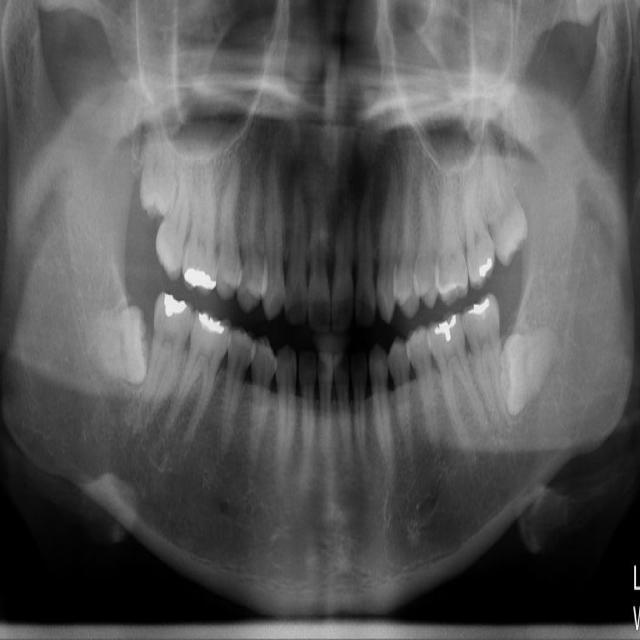3M ESPE Implant: (137, 93, 184, 223)
52: (166, 246, 225, 301), (145, 289, 204, 342), (182, 304, 239, 356), (417, 306, 473, 357), (453, 290, 507, 339), (466, 238, 495, 289)
BioHorizons Implant: (458, 153, 498, 291)
BioLife Implant: (466, 123, 536, 269)
Biomet 3i Implant: (500, 328, 557, 416)
Blue Sky Bio Implant: (459, 292, 511, 422)
Caries: (150, 157, 199, 282)
Implant: (143, 289, 198, 415)
Keystone Dental Implant: (85, 303, 164, 392)
